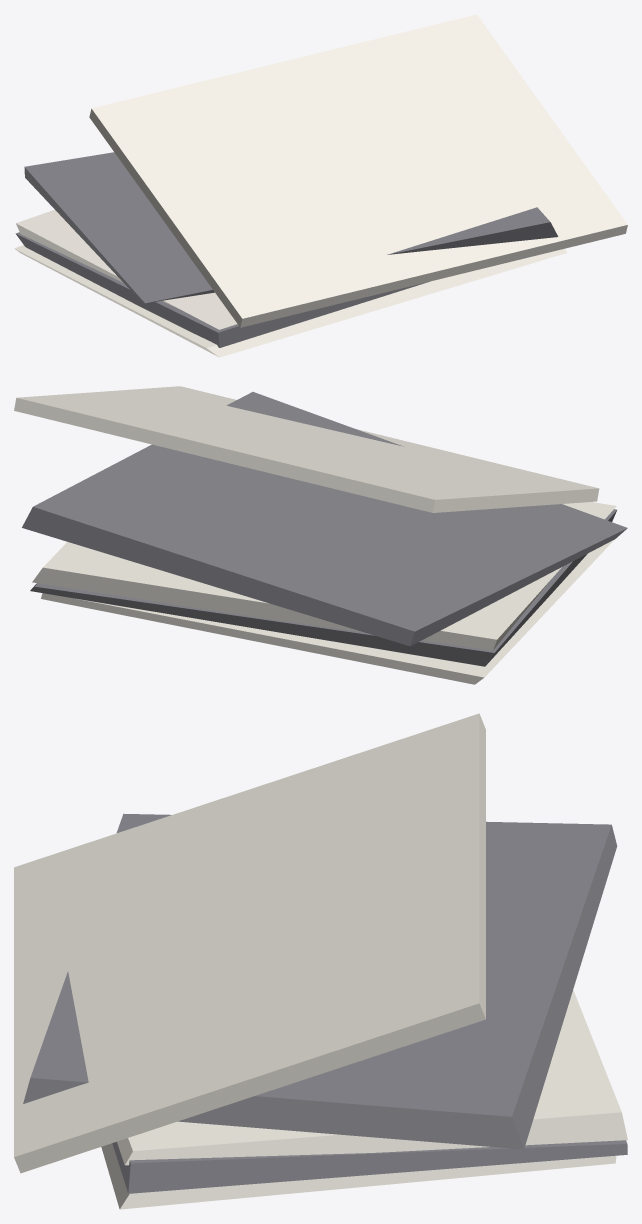
Rendered from Basura_Papel_Periodico.fbx.
3 views of the same model, one above another, from view 1: azimuth 30°, elevation 25°; view 2: azimuth 150°, elevation 25°; view 3: azimuth 270°, elevation 25° (orthographic). The views are drawn at different scales.
Parts seen in each view (by area): view 1: Basura_Papel_Periodico; view 2: Basura_Papel_Periodico; view 3: Basura_Papel_Periodico.
Part boxes in pixels (x1,y1,x2,y2): Basura_Papel_Periodico: [14, 14, 627, 357]; Basura_Papel_Periodico: [14, 386, 627, 684]; Basura_Papel_Periodico: [14, 713, 627, 1209].
Bounding box in the file's own units: 1.05 × 0.3272 × 0.8055.
Materials: 1 (1 with a texture image).
